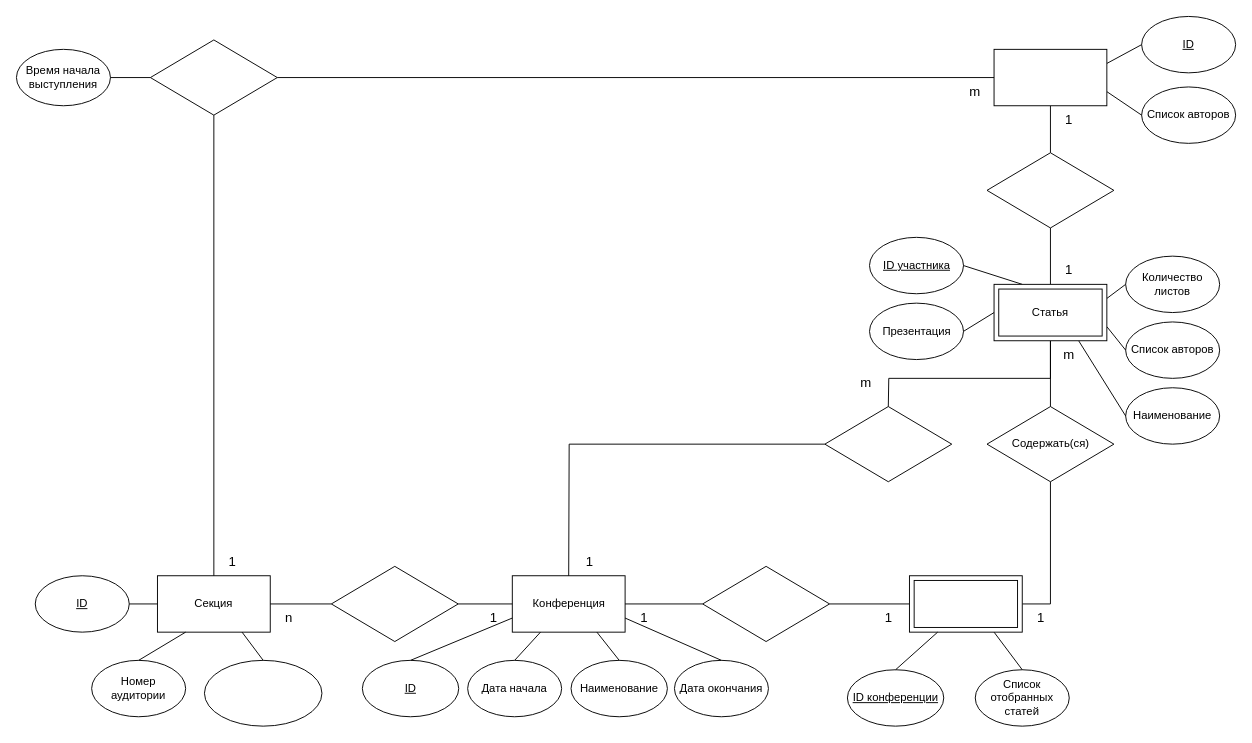
Some shapes in this 1252 by 743 pixel diagram are drawn without their labels. The shapes that lost their labels are listed below. From the top down, each one's centre as x and y in pixels, then its label:
the point at 213,77: Принимать участие
the point at 1050,77: Участник
the point at 1050,190: Создавать(ся)
the point at 888,444: Регистрировать(ся)
the point at 394,603: Разделять(ся)
the point at 766,603: Формировать(ся)
the point at 965,603: Сборник статей
the point at 263,692: Продолжительность выступления
